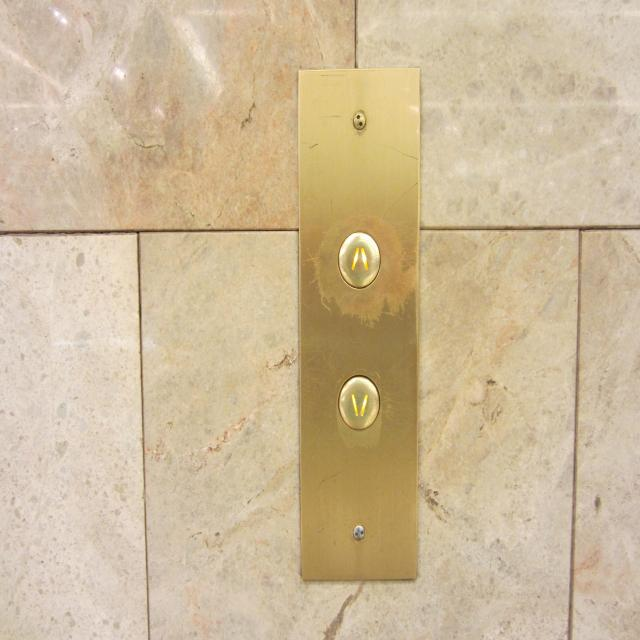down: (335, 373, 381, 432)
up: (337, 231, 382, 291)
